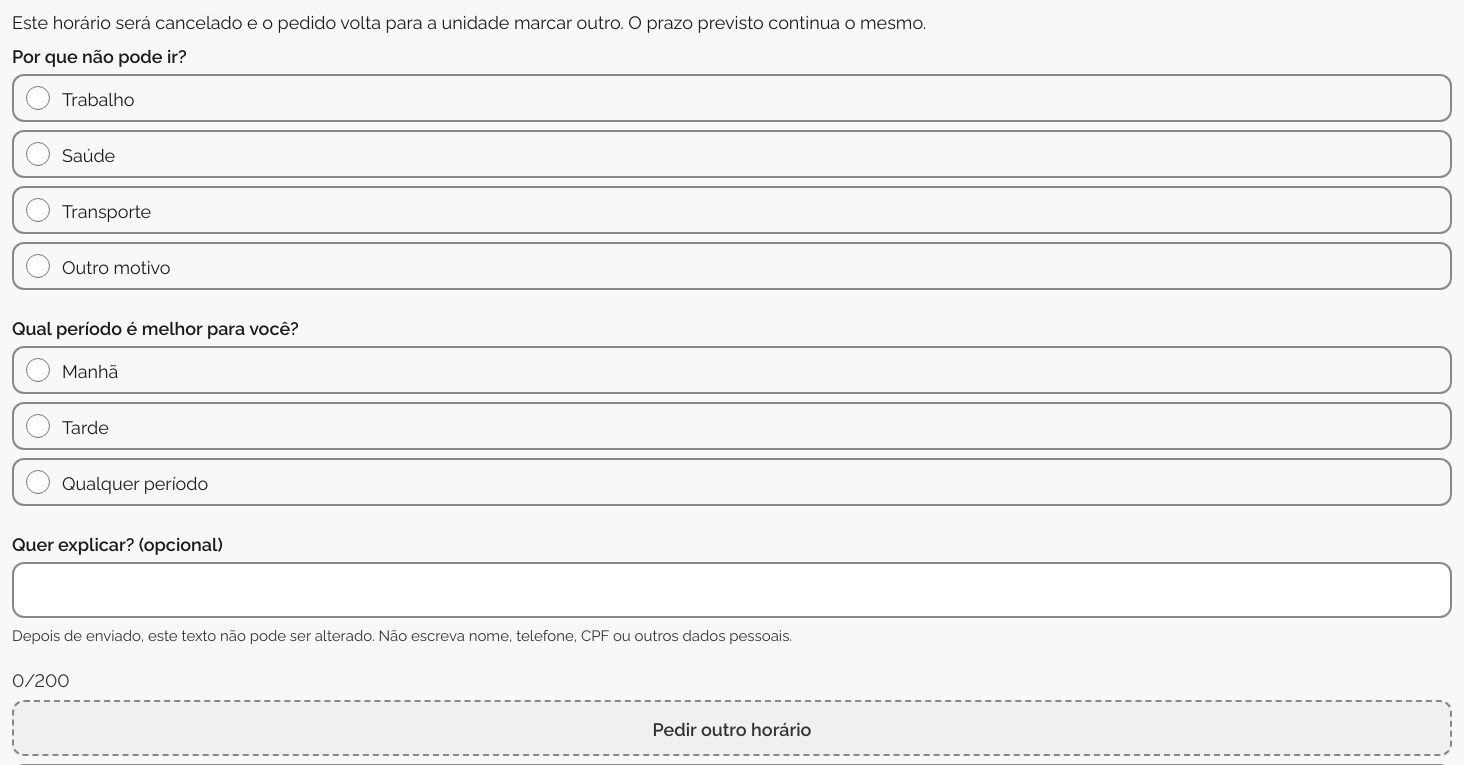
it: RescheduleForm › a nota mostra o aviso de texto congelado e o contador até 200
Check: the text "0/200" is shown, box x1=12 y1=666 x2=70 y2=691
Type "Plantão" into the field labelled "Quer explicar? (opcional)" at (732, 590), box x1=12 y1=562 x2=1452 y2=618
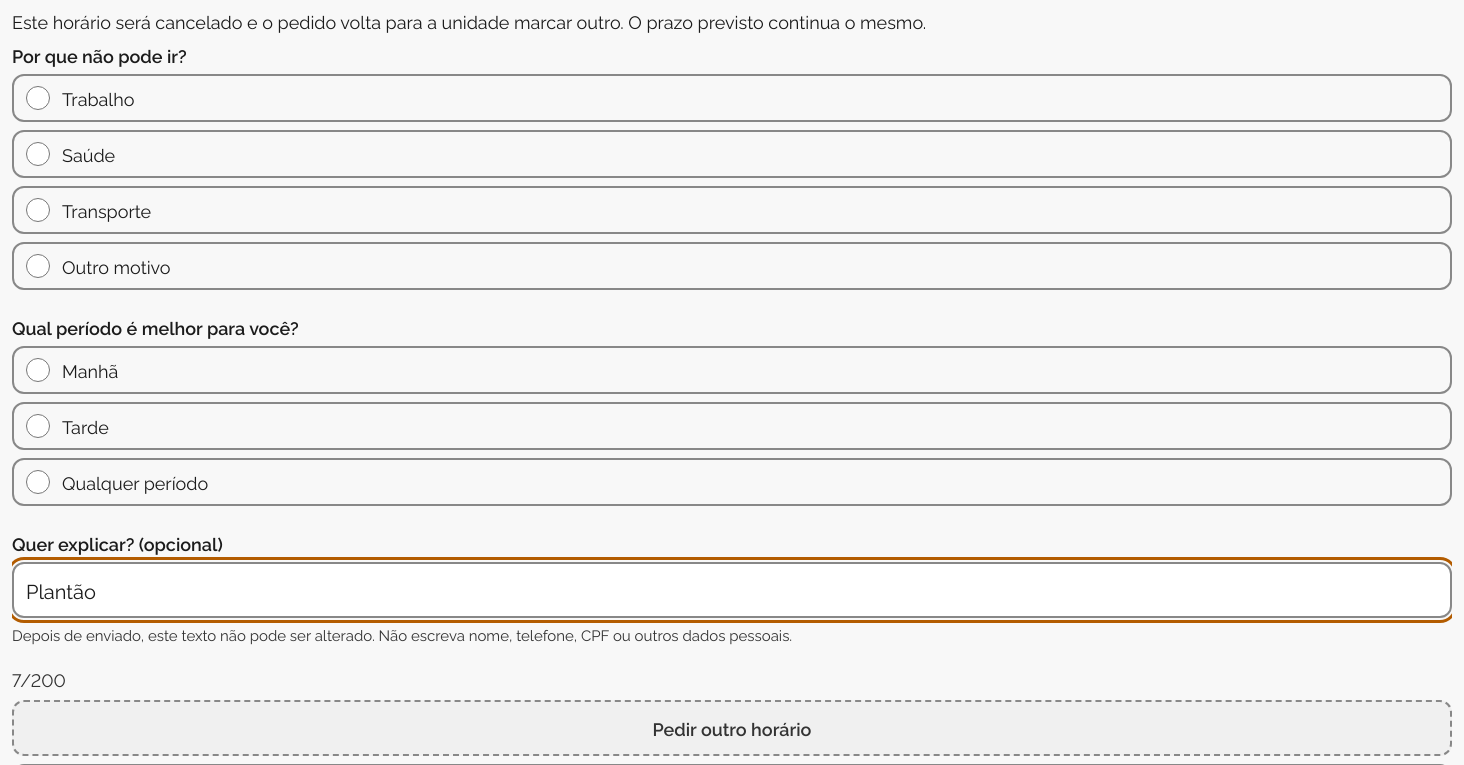
Check: the text "7/200" is shown, box x1=12 y1=666 x2=66 y2=691
